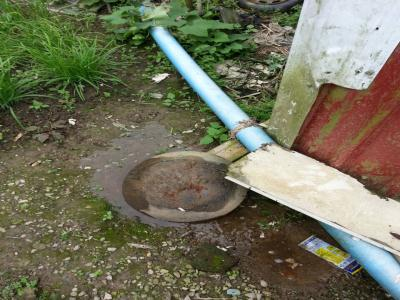bowl: (117, 140, 251, 228)
